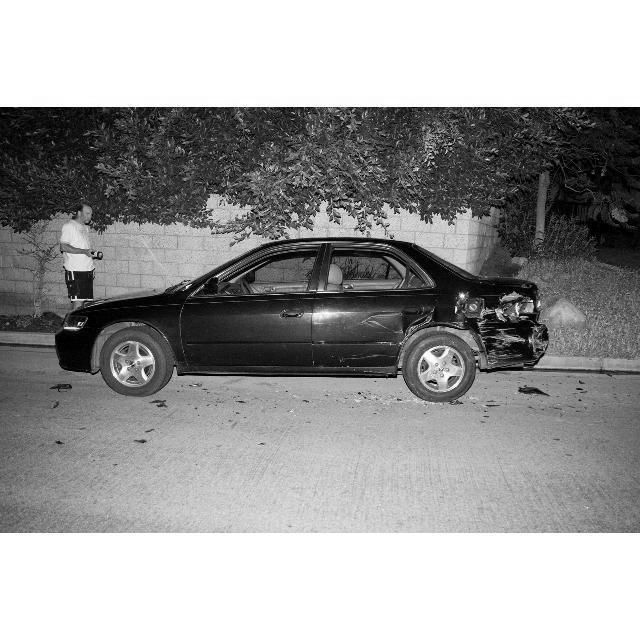doorouter-dent: (305, 298, 403, 380)
quaterpanel-dent: (407, 291, 523, 361)
rear-bumper-dent: (527, 290, 562, 358)
